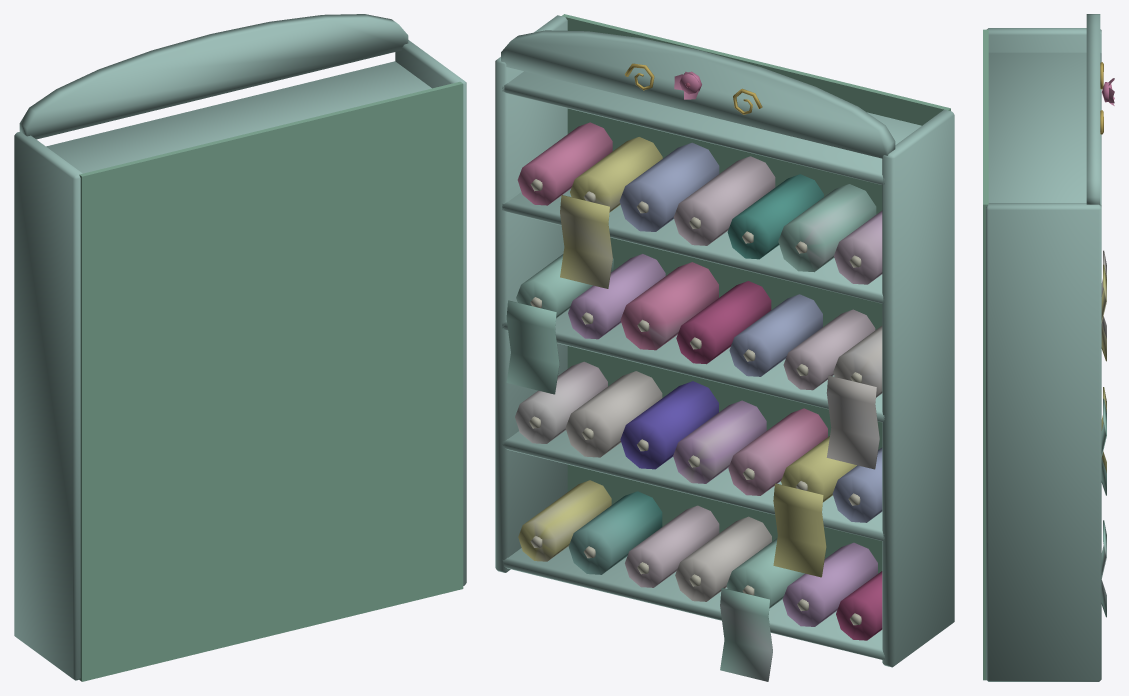
File: seam_fabric_bolts.glb
3 renders of one model, left to right at view 1: azimuth 30°, elevation 25°; view 2: azimuth 150°, elevation 25°; view 3: azimuth 270°, elevation 25°, orthographic. The views are drawn at different scales.
Parts seen in each view (by area): view 1: seam_fabric_bolts; view 2: seam_fabric_bolts; view 3: seam_fabric_bolts.
Boxes of the visible parts, <box> form: seam_fabric_bolts: <box>14,14,466,681</box>; seam_fabric_bolts: <box>495,14,954,681</box>; seam_fabric_bolts: <box>983,14,1114,681</box>.
Size of what is drawn, in the model's own units: 1.55 by 2.24 by 0.477.
